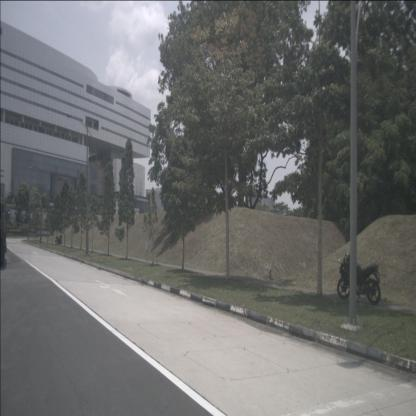vehicle-motorcycle: (337, 252, 381, 304), (55, 235, 63, 245)
